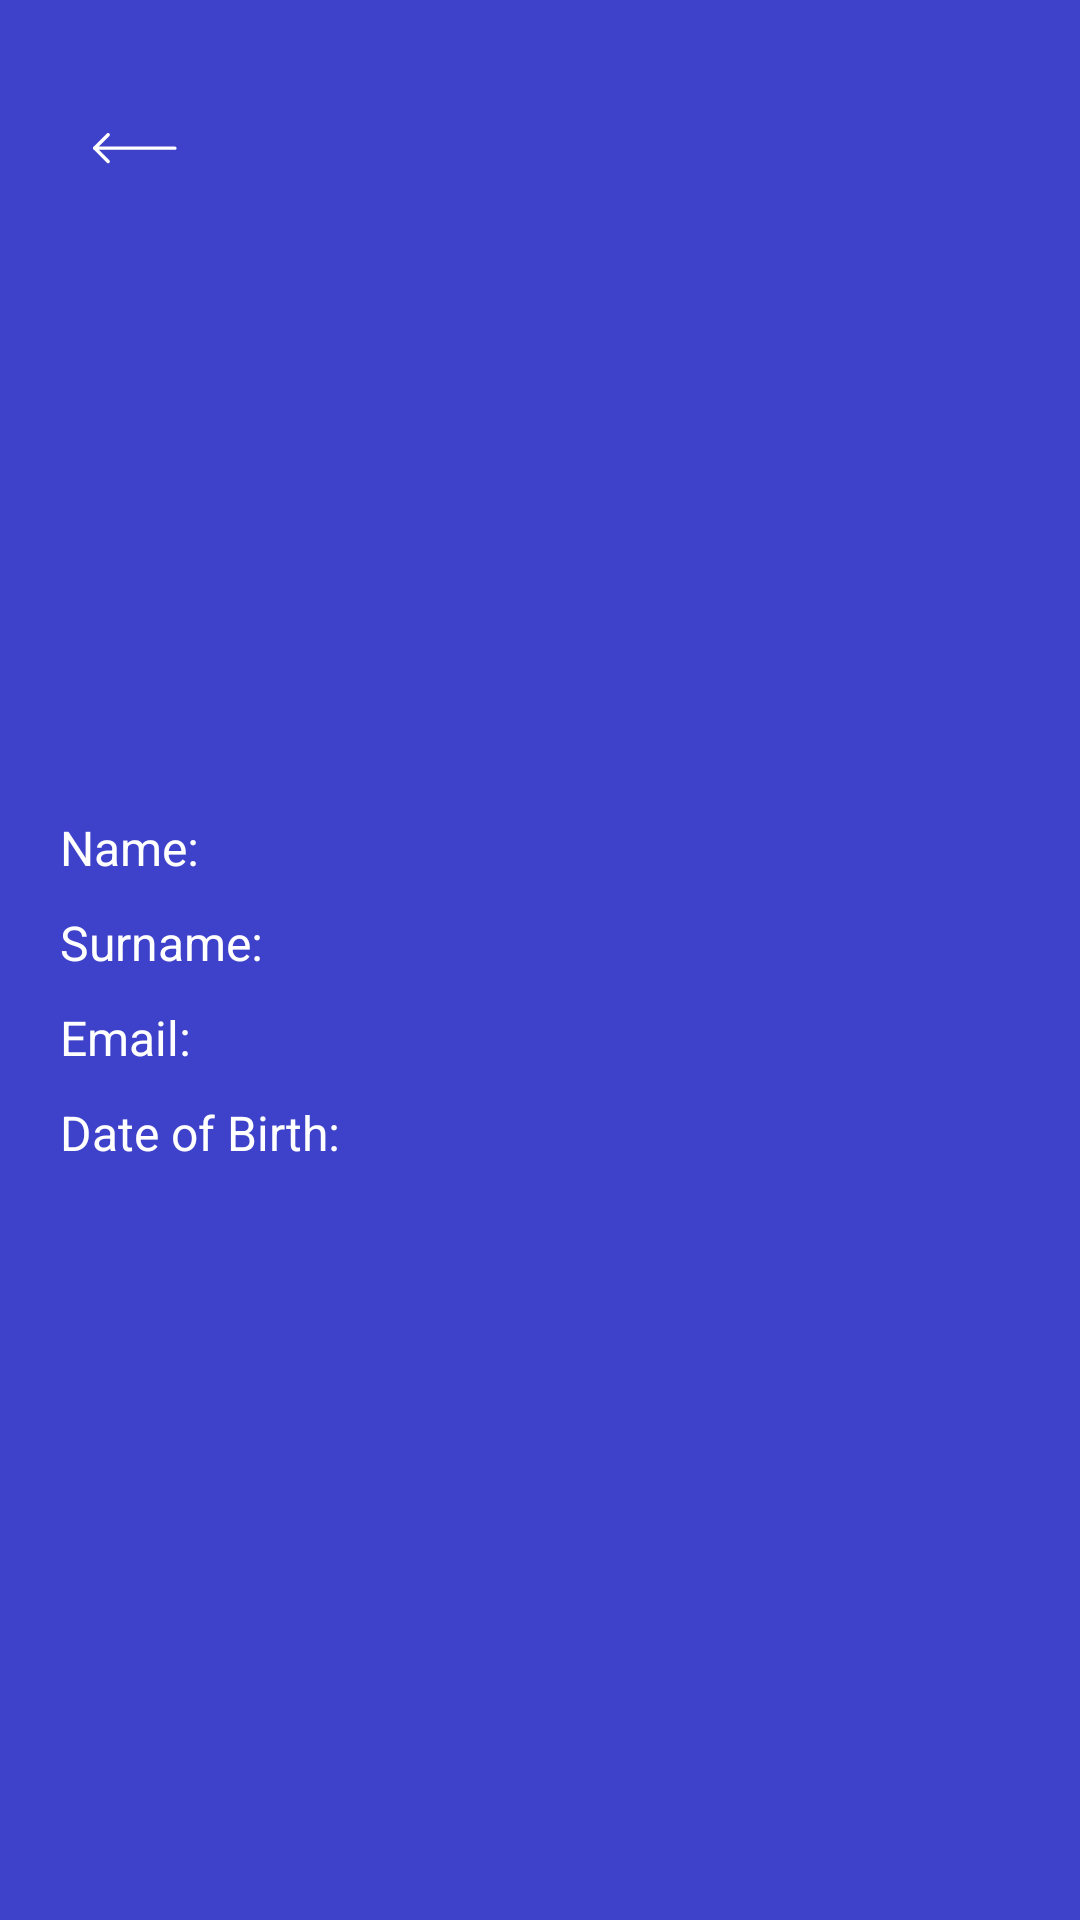

Named icons in this screenshot (1080x1920) and their centers, (x=x, y=y):
back arrow: (x=135, y=148)
